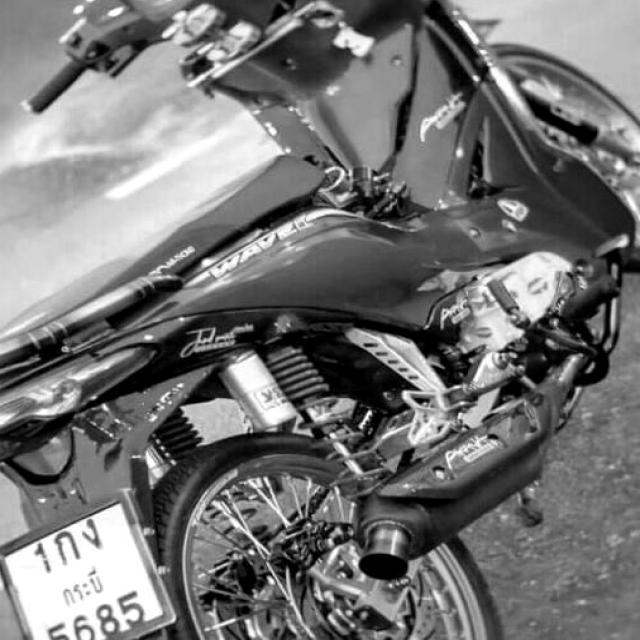letters: (49, 527, 84, 564), (120, 592, 147, 634), (79, 516, 106, 551), (67, 611, 96, 640), (30, 542, 54, 576), (99, 600, 116, 637), (44, 621, 70, 640)
license-plate: (1, 496, 175, 640)
province: (49, 578, 115, 600)
